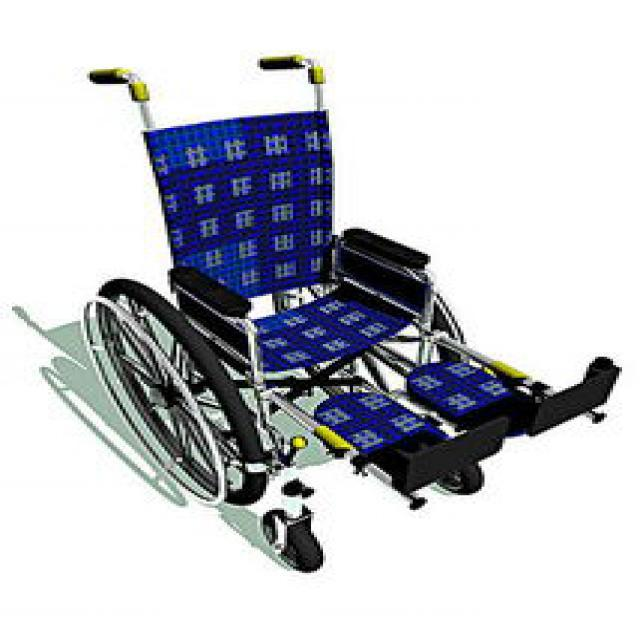wheelchair: (54, 39, 637, 558)
